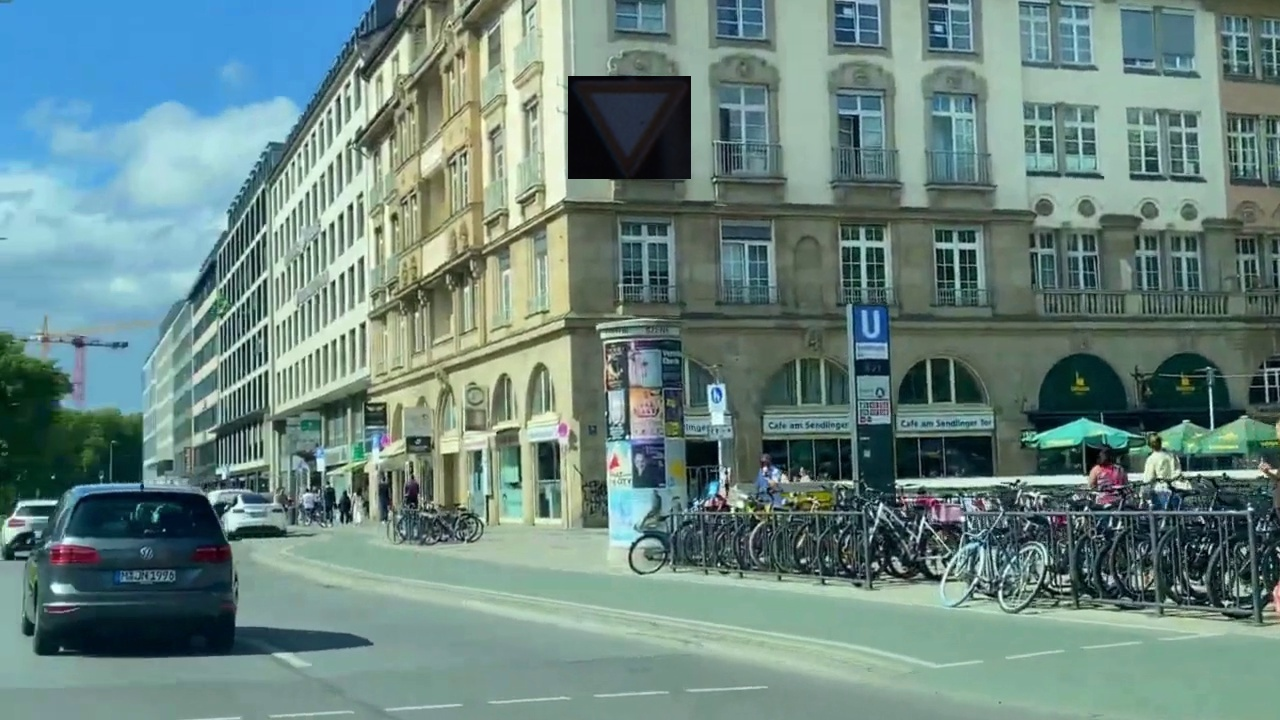Yield: (568, 76, 691, 179)
